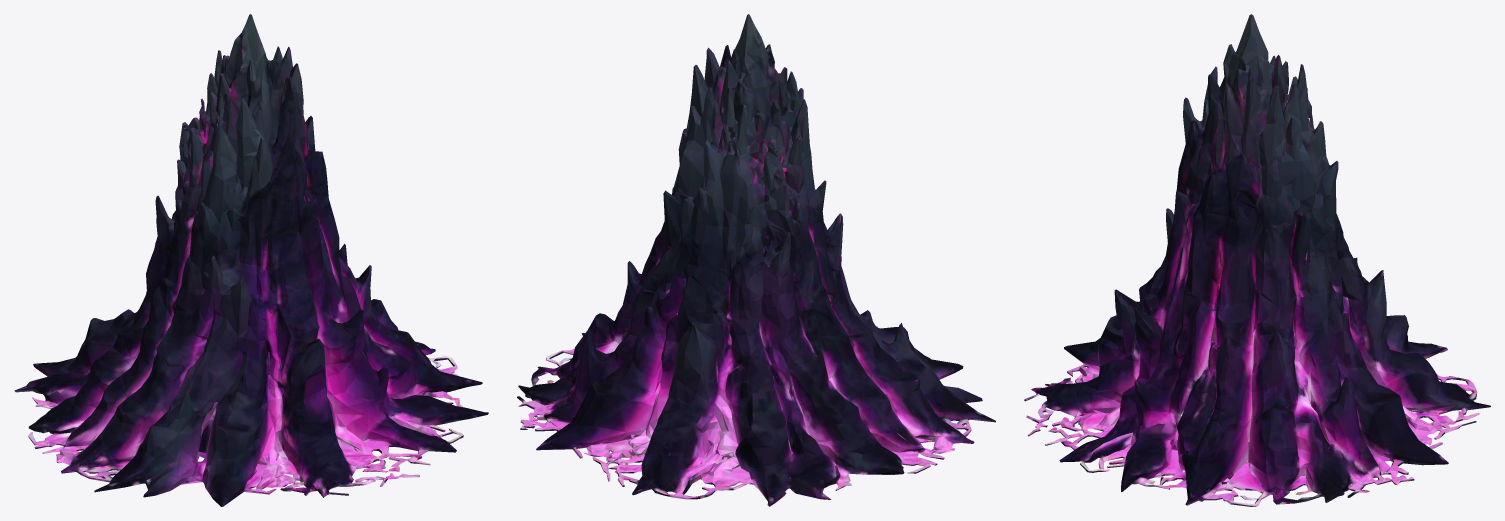
File: root-mound-generated-2026-04-19T16-18-52-077Z.low.glb
3 views of the same model, side by side, from view 1: azimuth 30°, elevation 25°; view 2: azimuth 150°, elevation 25°; view 3: azimuth 270°, elevation 25° (orthographic).
Parts seen in each view (by area): view 1: temp_mesh.ply; view 2: temp_mesh.ply; view 3: temp_mesh.ply.
Part boxes in pixels (x1,y1,x2,y2): temp_mesh.ply: [14, 14, 488, 506]; temp_mesh.ply: [517, 14, 995, 506]; temp_mesh.ply: [1024, 14, 1490, 506].
Size of the model in its own units: 1.97 by 1.82 by 1.94.
Materials: 1 (1 with a texture image).
